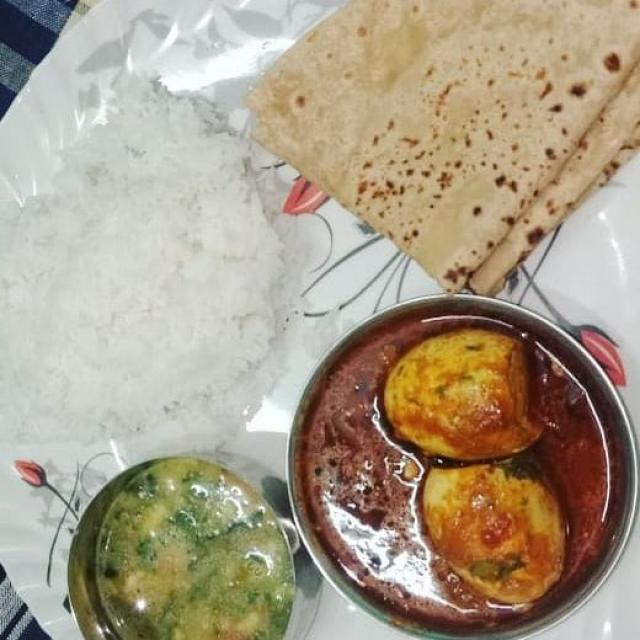Roti: (255, 17, 628, 281)
White Rice: (10, 115, 276, 441)
